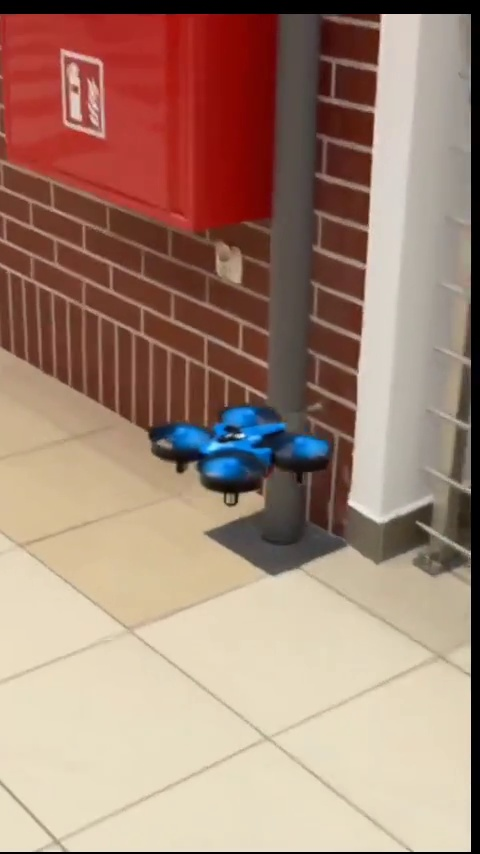drone: (145, 401, 329, 497)
